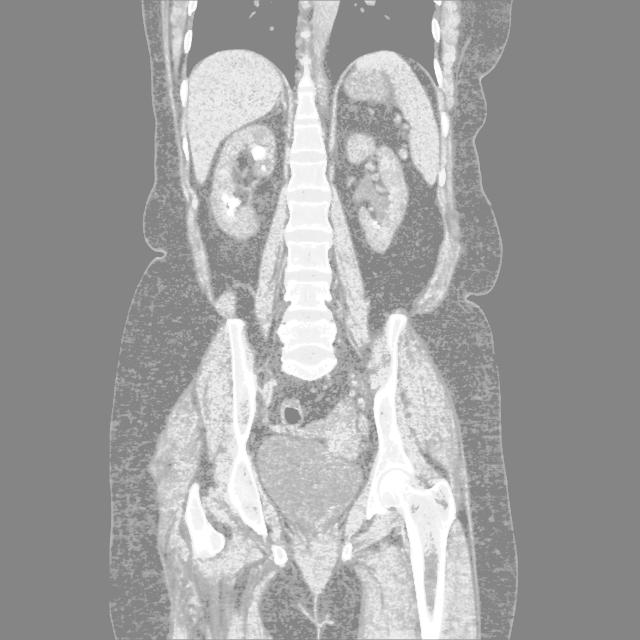STONE: (209, 109, 436, 276)
